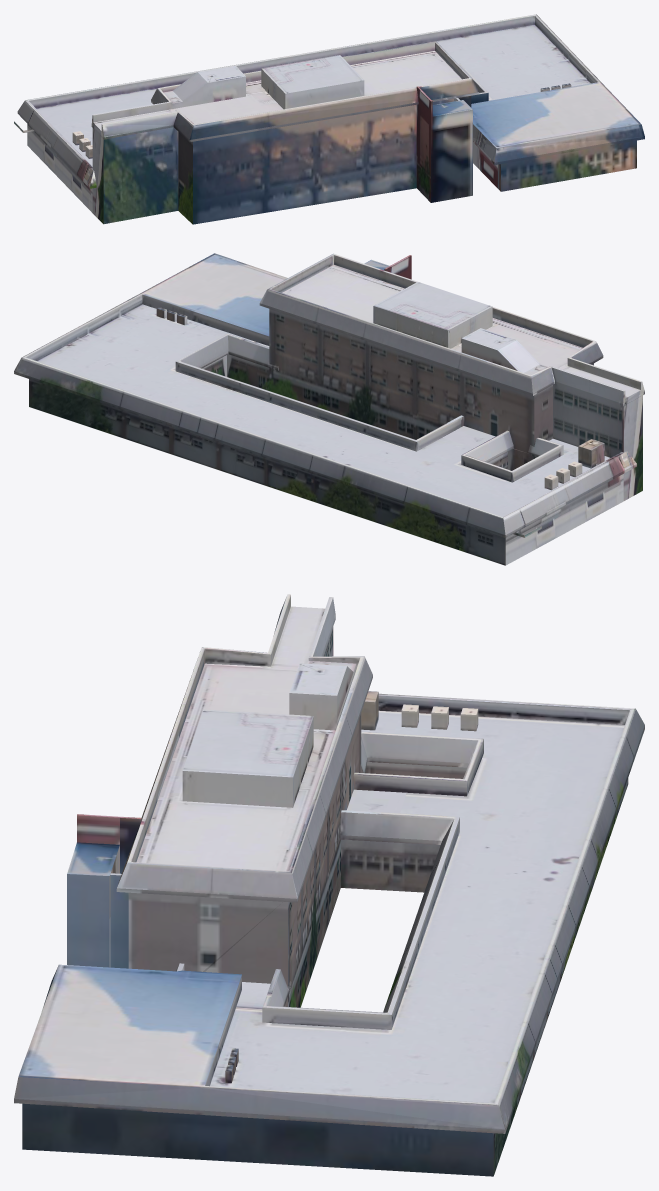
3 views of the same model, one above another, from view 1: azimuth 30°, elevation 25°; view 2: azimuth 150°, elevation 25°; view 3: azimuth 270°, elevation 25° (orthographic). The views are drawn at different scales.
Parts seen in each view (by area): view 1: B293924028201062A0; view 2: B293924028201062A0; view 3: B293924028201062A0.
Boxes of the visible parts, <box> form: B293924028201062A0: <box>14,14,644,224</box>; B293924028201062A0: <box>14,253,644,565</box>; B293924028201062A0: <box>14,594,644,1176</box>.
Size of the model in its own units: 60.27 by 12.77 by 37.91.
Materials: 1 (1 with a texture image).
